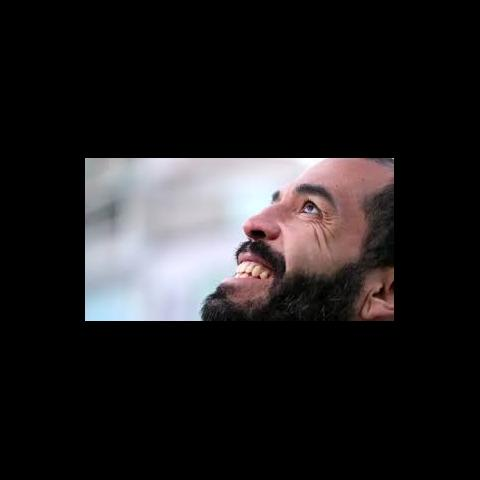opened: (268, 180, 342, 230)
